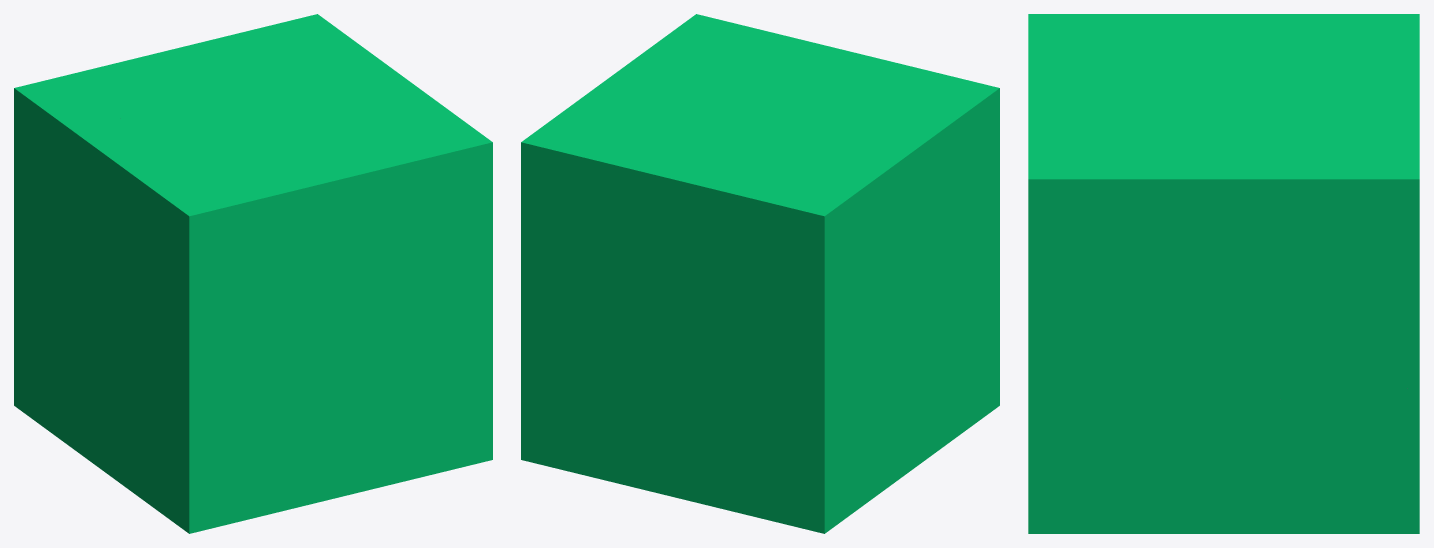
3 views of the same model, side by side, from view 1: azimuth 30°, elevation 25°; view 2: azimuth 150°, elevation 25°; view 3: azimuth 270°, elevation 25° (orthographic). The views are drawn at different scales.
Visible parts, largest first — view 1: Cube, Cube_cell_002, Cube_cell_002_cell_000_cell_002, Cube_cell_002_cell_000_cell_001, Cube_cell_002_cell_001_cell_001, Cube_cell_001_cell_002_cell_001, Cube_cell_000_cell_000, Cube_cell_002_cell_001_cell_002, Cube_cell_001_cell_002_cell_002, Cube_cell_002_cell_001, Cube_cell_000_cell_000_cell_000; view 2: Cube_cell_002, Cube_cell_001, Cube_cell_000_cell_000, Cube_cell_000, Cube, Cube_cell_001_cell_002_cell_001, Cube_cell_001_cell_001_cell_001, Cube_cell_001_cell_002_cell_002, Cube_cell_000_cell_001_cell_002, Cube_cell_000_cell_002_cell_002, Cube_cell_000_cell_000_cell_000, Cube_cell_002_cell_001 (+1 smaller); view 3: Cube_cell_002_cell_002, Cube_cell_002, Cube_cell_002_cell_000, Cube_cell_001_cell_000, Cube_cell_000, Cube_cell_000_cell_002_cell_002, Cube, Cube_cell_000_cell_001_cell_000, Cube_cell_001_cell_001_cell_000, Cube_cell_000_cell_000, Cube_cell_002_cell_001, Cube_cell_000_cell_002 (+3 smaller).
Part boxes in pixels (left/top/right/bottom): Cube: left=14, top=14, right=492, bottom=523; Cube_cell_002: left=69, top=66, right=492, bottom=533; Cube_cell_002_cell_000_cell_002: left=189, top=324, right=363, bottom=533; Cube_cell_002_cell_000_cell_001: left=306, top=290, right=492, bottom=489; Cube_cell_002_cell_001_cell_001: left=130, top=174, right=346, bottom=330; Cube_cell_001_cell_002_cell_001: left=14, top=190, right=147, bottom=449; Cube_cell_000_cell_000: left=14, top=59, right=196, bottom=241; Cube_cell_002_cell_001_cell_002: left=189, top=216, right=297, bottom=416; Cube_cell_001_cell_002_cell_002: left=14, top=332, right=175, bottom=523; Cube_cell_002_cell_001: left=165, top=161, right=346, bottom=445; Cube_cell_000_cell_000_cell_000: left=61, top=63, right=195, bottom=127; Cube_cell_002: left=593, top=14, right=999, bottom=415; Cube_cell_001: left=521, top=318, right=984, bottom=533; Cube_cell_000_cell_000: left=690, top=142, right=881, bottom=322; Cube_cell_000: left=521, top=142, right=821, bottom=328; Cube: left=521, top=90, right=985, bottom=415; Cube_cell_001_cell_002_cell_001: left=824, top=287, right=958, bottom=458; Cube_cell_001_cell_001_cell_001: left=633, top=321, right=744, bottom=493; Cube_cell_001_cell_002_cell_002: left=824, top=382, right=985, bottom=533; Cube_cell_000_cell_001_cell_002: left=600, top=232, right=704, bottom=323; Cube_cell_000_cell_002_cell_002: left=522, top=91, right=686, bottom=161; Cube_cell_000_cell_000_cell_000: left=710, top=142, right=879, bottom=280; Cube_cell_002_cell_001: left=825, top=49, right=999, bottom=101; Cube_cell_002_cell_002: left=1028, top=179, right=1259, bottom=411; Cube_cell_002: left=1028, top=14, right=1296, bottom=338; Cube_cell_002_cell_000: left=1028, top=338, right=1238, bottom=533; Cube_cell_001_cell_000: left=1117, top=392, right=1361, bottom=533; Cube_cell_000: left=1252, top=179, right=1419, bottom=399; Cube_cell_000_cell_002_cell_002: left=1258, top=124, right=1419, bottom=255; Cube: left=1028, top=14, right=1419, bottom=533; Cube_cell_000_cell_001_cell_000: left=1250, top=279, right=1379, bottom=401; Cube_cell_001_cell_001_cell_000: left=1351, top=387, right=1419, bottom=533; Cube_cell_000_cell_000: left=1283, top=14, right=1419, bottom=79; Cube_cell_002_cell_001: left=1028, top=14, right=1075, bottom=99; Cube_cell_000_cell_002: left=1256, top=179, right=1419, bottom=281.
Size of the model in its own units: 2 by 2 by 2.
